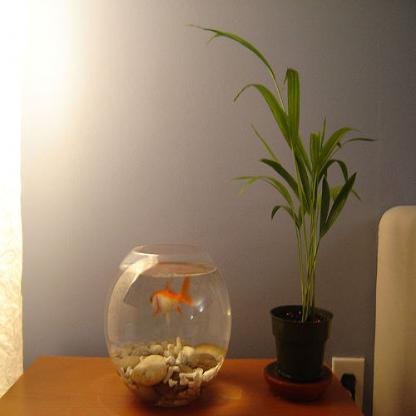pottedplant: (186, 24, 376, 405)
